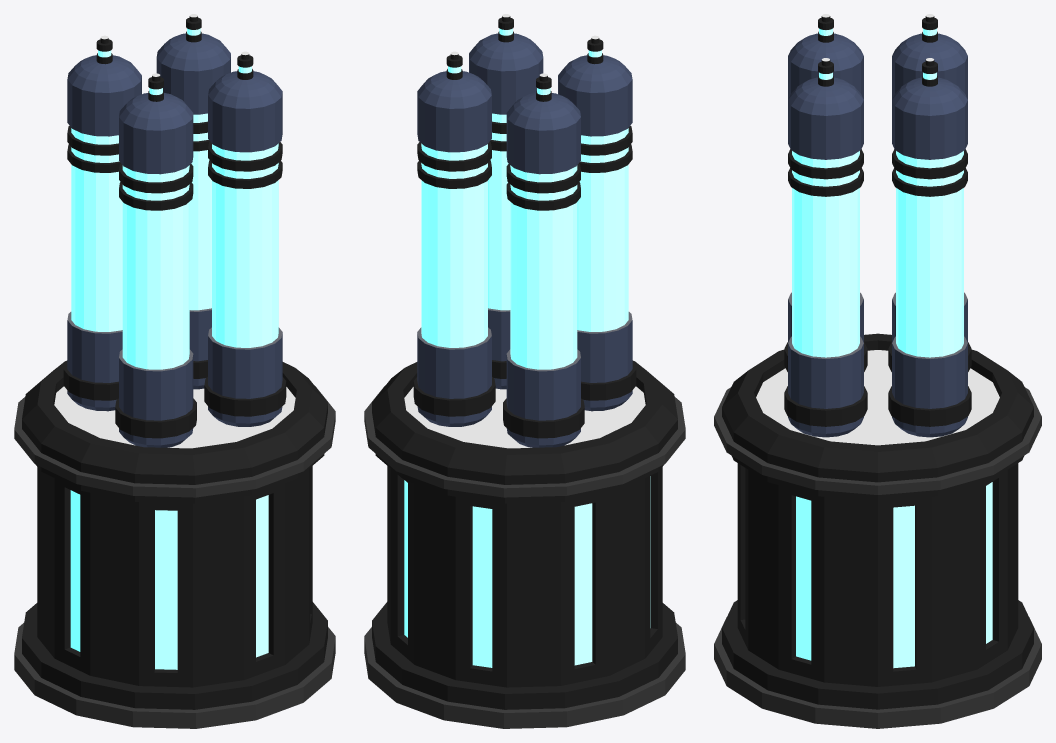
The model's file is OxygenSystem.fbx.
The picture shows the model from 3 angles, left to right: view 1: azimuth 30°, elevation 25°; view 2: azimuth 150°, elevation 25°; view 3: azimuth 270°, elevation 25°; orthographic projection.
Visible parts, largest first — view 1: Base, Cylinder; view 2: Base, Cylinder; view 3: Base, Cylinder.
Part boxes in pixels (left/top/right/bottom): Base: left=14, top=360, right=335, bottom=728; Cylinder: left=63, top=14, right=286, bottom=447; Base: left=364, top=360, right=685, bottom=728; Cylinder: left=413, top=14, right=636, bottom=447; Base: left=714, top=333, right=1041, bottom=728; Cylinder: left=784, top=14, right=971, bottom=437.
Bounding box in the file's own units: 315 × 677 × 315.
2 materials, 1 textured.
